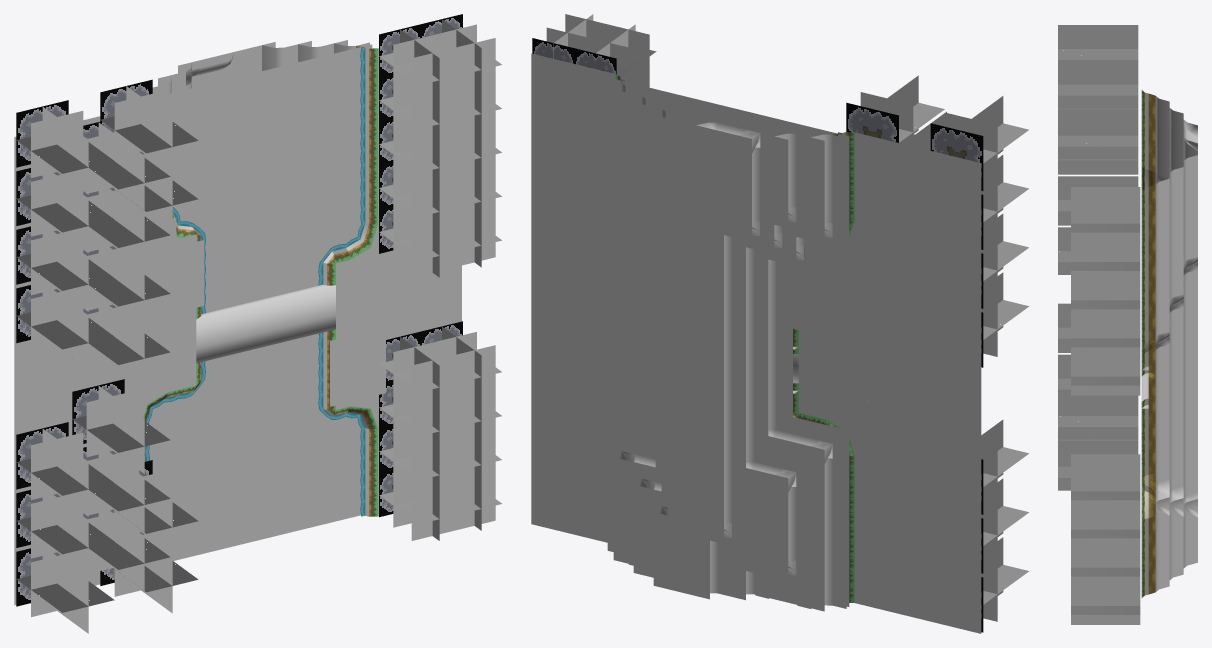
The model's file is Asteria_09_12.obj.
3 renders of one model, left to right at view 1: azimuth 30°, elevation 25°; view 2: azimuth 150°, elevation 25°; view 3: azimuth 270°, elevation 25°, orthographic. The views are drawn at different scales.
Parts seen in each view (by area): view 1: map; view 2: map; view 3: map.
Part boxes in pixels (left/top/right/bottom): map: left=14, top=14, right=501, bottom=633; map: left=531, top=14, right=1028, bottom=633; map: left=1058, top=25, right=1197, bottom=624.
Size of the model in its own units: 32 by 33.88 by 9.94.
